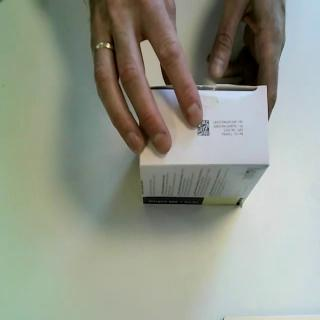fentanyl50ug_ml: (138, 83, 272, 209)
